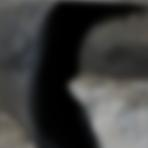brick: (0, 0, 24, 7), (131, 0, 147, 6)
broken_brick: (70, 70, 147, 147), (0, 109, 31, 147)
crack: (2, 0, 145, 147)
